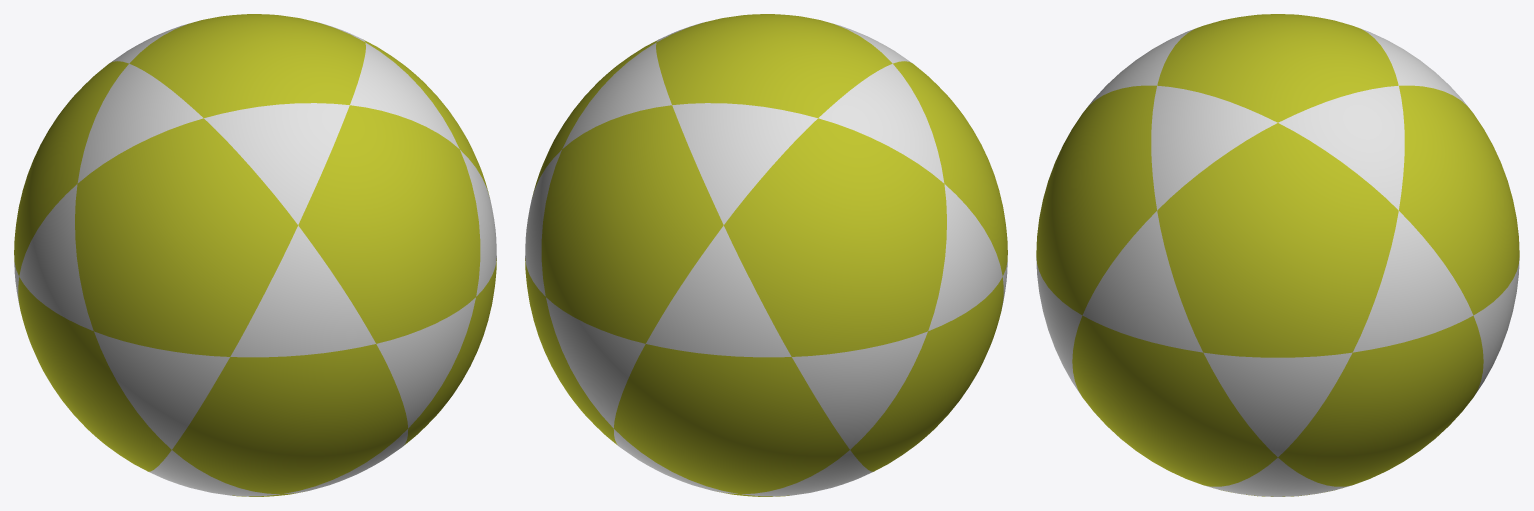
Rendered from Skins Pelota4.fbx.
The picture shows the model from 3 angles, left to right: view 1: azimuth 30°, elevation 25°; view 2: azimuth 150°, elevation 25°; view 3: azimuth 270°, elevation 25°; orthographic projection.
Parts seen in each view (by area): view 1: Icosphere; view 2: Icosphere; view 3: Icosphere.
Part boxes in pixels (<box>): Icosphere: <box>14,14,496,496</box>; Icosphere: <box>525,14,1007,496</box>; Icosphere: <box>1036,14,1519,496</box>.
Bounding box in the file's own units: 199 × 199 × 199.
